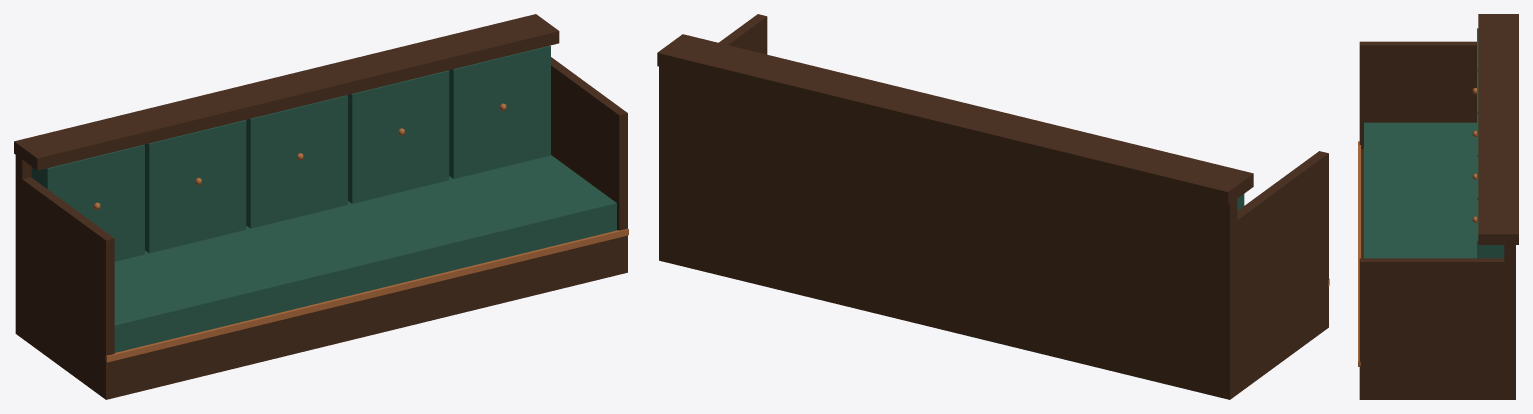
File: banquette.glb
3 views of the same model, side by side, from view 1: azimuth 30°, elevation 25°; view 2: azimuth 150°, elevation 25°; view 3: azimuth 270°, elevation 25° (orthographic). The views are drawn at different scales.
Visible parts, largest first — view 1: banquette felt, banquette wood, banquette metal; view 2: banquette wood; view 3: banquette wood, banquette felt, banquette metal.
Part boxes in pixels (<box>): banquette felt: <box>31,45,616,352</box>; banquette wood: <box>14,14,627,399</box>; banquette metal: <box>94,103,628,362</box>; banquette wood: <box>657,14,1328,399</box>; banquette wood: <box>1359,14,1518,399</box>; banquette felt: <box>1364,28,1504,258</box>; banquette metal: <box>1358,88,1476,366</box>.
Size of what is drawn, in the model's own units: 3.6 by 1.26 by 1.11.
